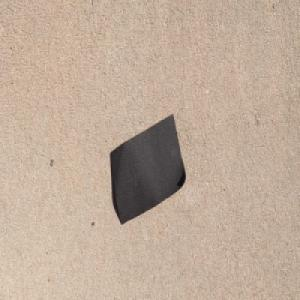PaintChip: (109, 113, 186, 225)
